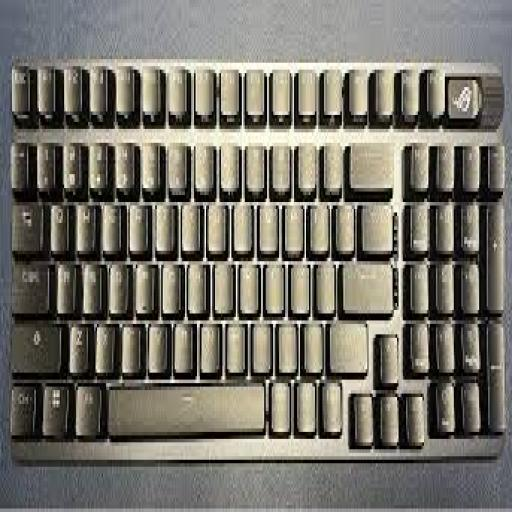keyboard: (7, 59, 509, 456)
